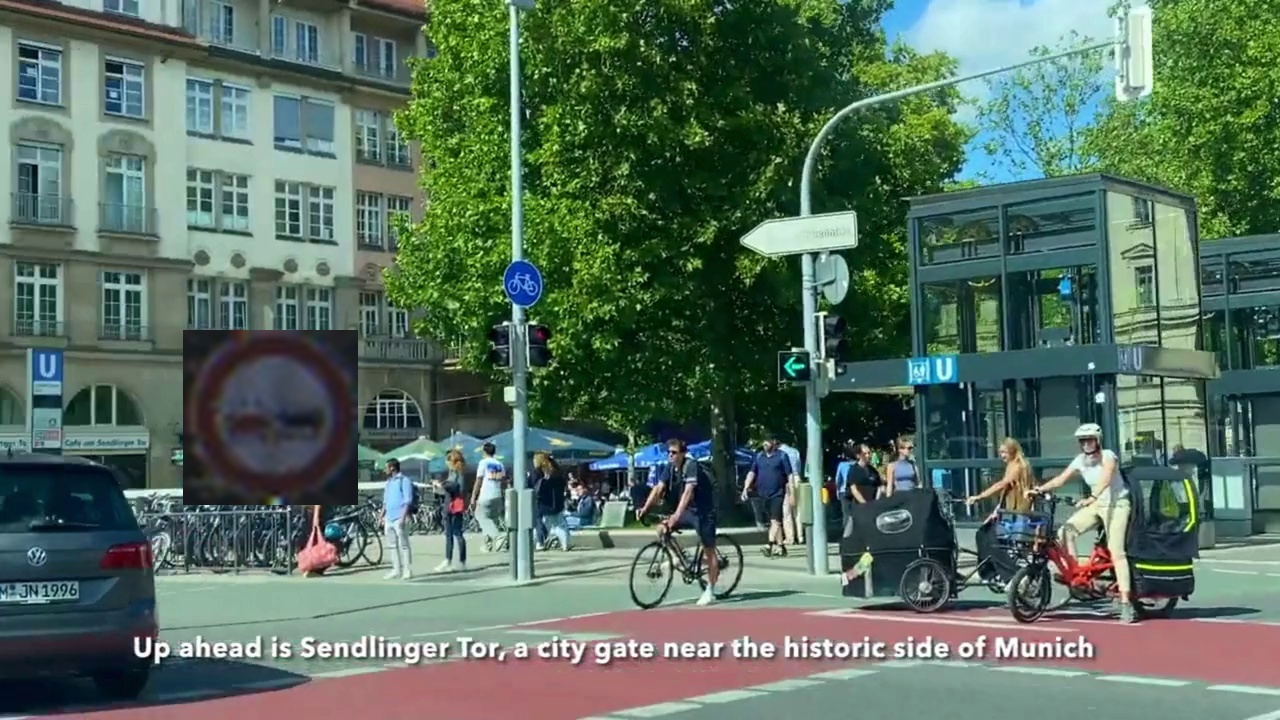No passing: (183, 330, 358, 505)
